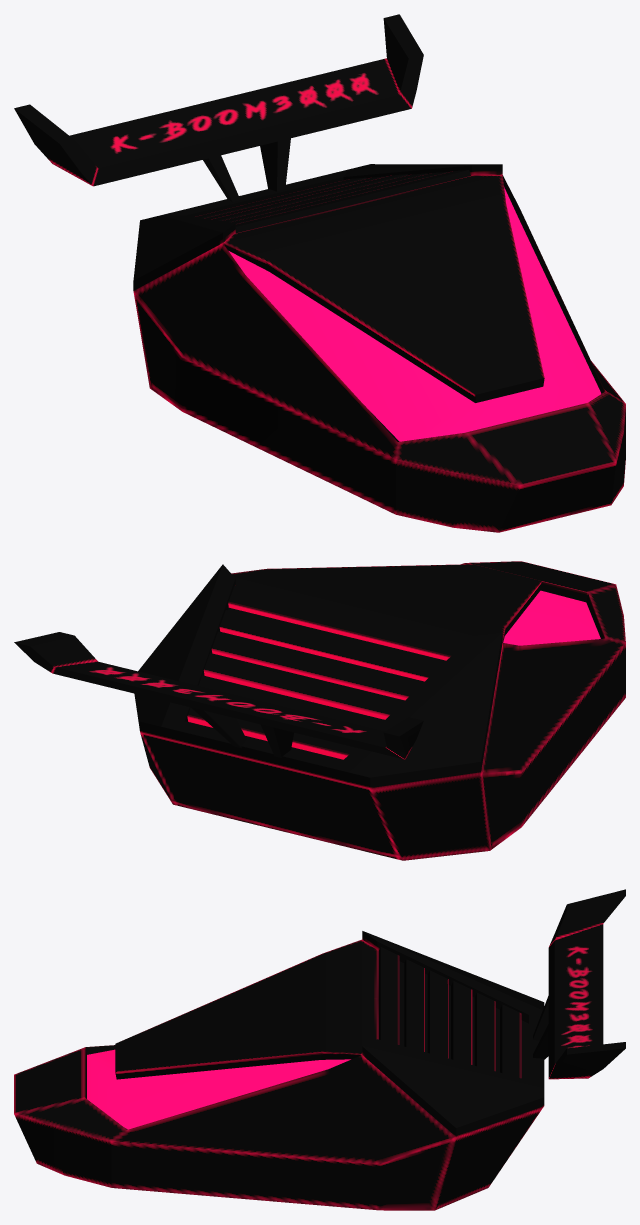
Rendered from Crazy_Rocket_02.glb.
3 views of the same model, one above another, from view 1: azimuth 30°, elevation 25°; view 2: azimuth 150°, elevation 25°; view 3: azimuth 270°, elevation 25° (orthographic). The views are drawn at different scales.
Visible parts, largest first — view 1: Rocket_Completo; view 2: Rocket_Completo; view 3: Rocket_Completo.
Boxes of the visible parts, x1,y1,x2,y2 form: Rocket_Completo: (14,14,625,532); Rocket_Completo: (14,561,625,860); Rocket_Completo: (14,889,625,1210).
Size of the model in its own units: 1.28 by 0.6422 by 2.08.
1 material, 1 textured.
